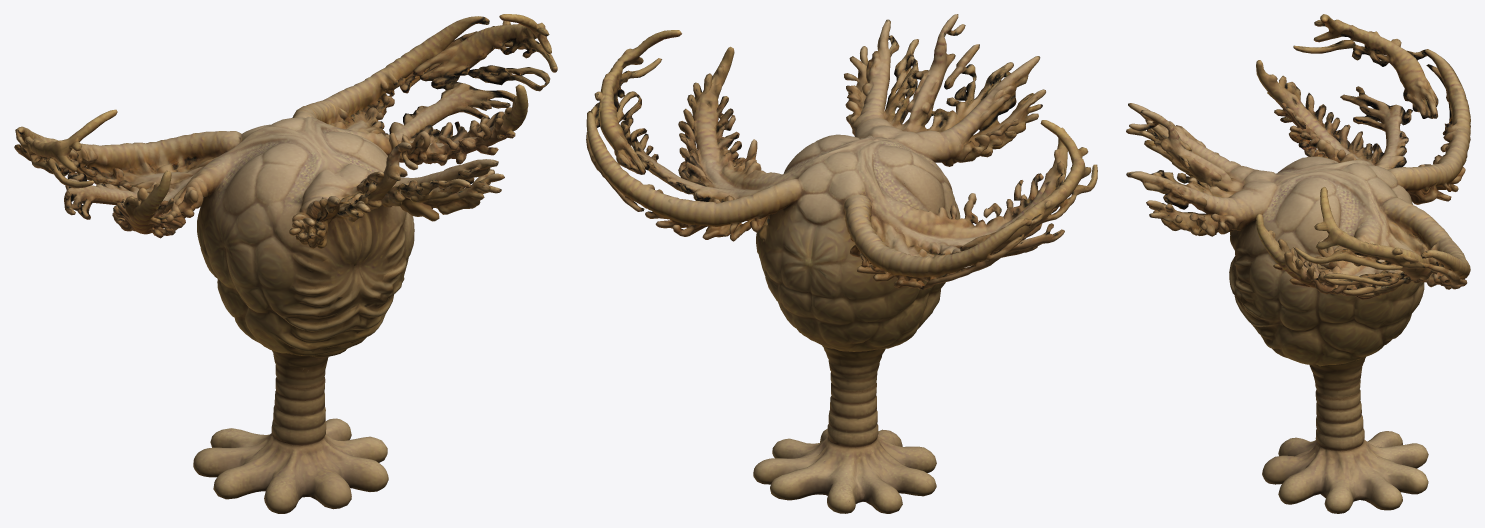
3 renders of one model, left to right at view 1: azimuth 30°, elevation 25°; view 2: azimuth 150°, elevation 25°; view 3: azimuth 270°, elevation 25°, orthographic. The views are drawn at different scales.
Parts seen in each view (by area): view 1: world; view 2: world; view 3: world.
Part boxes in pixels (bbox=[...]): world: bbox=[14, 14, 557, 513]; world: bbox=[586, 14, 1097, 513]; world: bbox=[1126, 14, 1470, 513].
Size of the model in its own units: 0.1891 by 0.1553 by 0.1276.
Materials: 1 (1 with a texture image).
